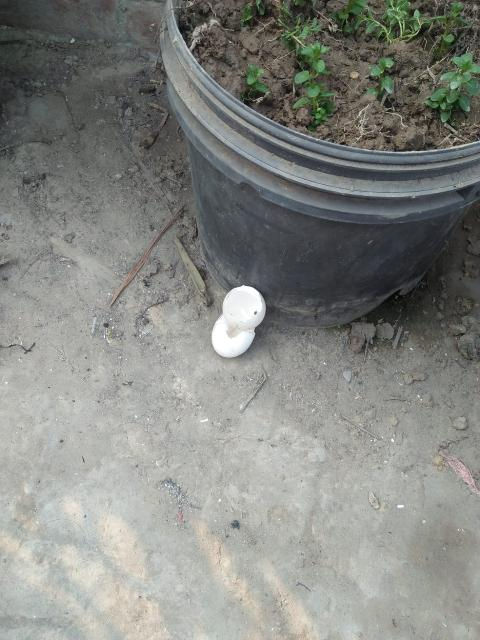Roto: (210, 284, 266, 358)
